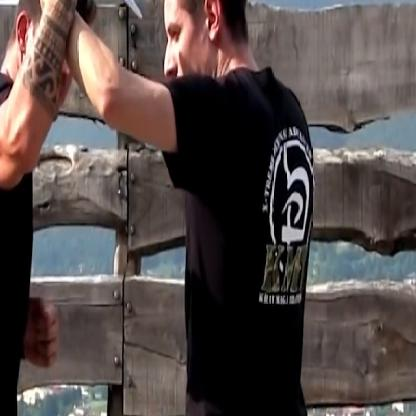knife: (47, 0, 146, 31)
